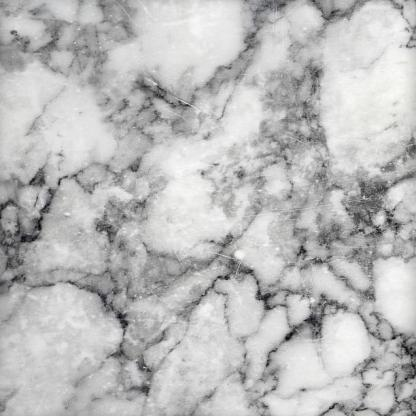Metamorphic_Marble: (8, 3, 415, 415)
